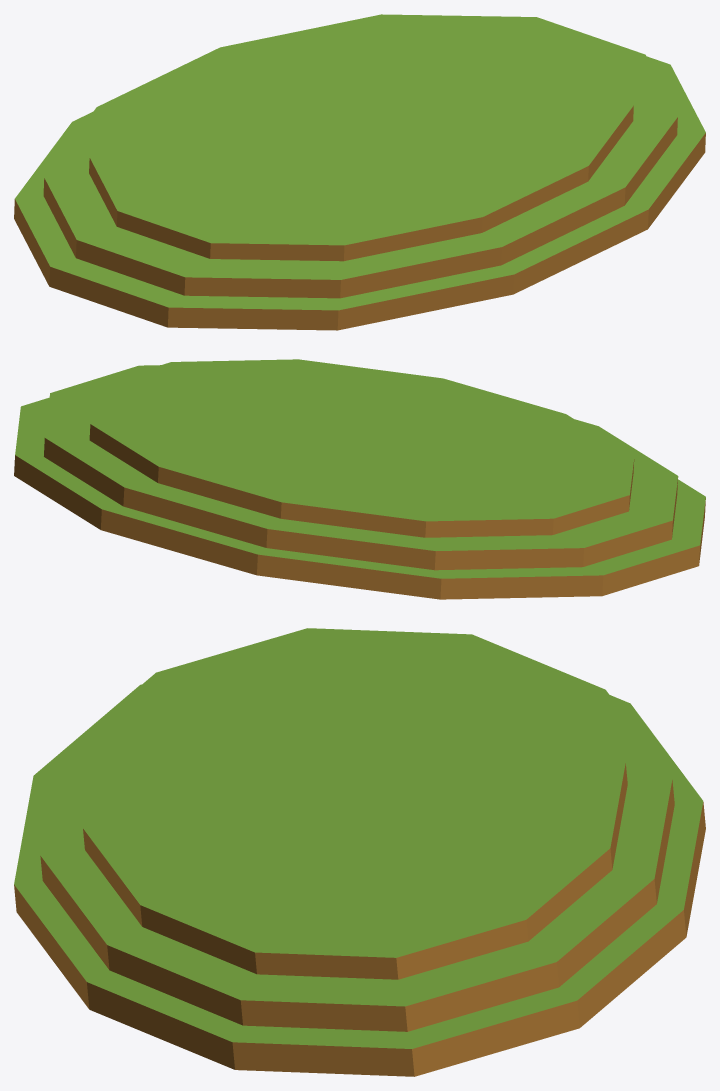
3 views of the same model, one above another, from view 1: azimuth 30°, elevation 25°; view 2: azimuth 150°, elevation 25°; view 3: azimuth 270°, elevation 25° (orthographic). The views are drawn at different scales.
Parts seen in each view (by area): view 1: node_MeshObject-158597248-PolyPaper19; view 2: node_MeshObject-158597248-PolyPaper19; view 3: node_MeshObject-158597248-PolyPaper19.
Part boxes in pixels (x1,y1,x2,y2): node_MeshObject-158597248-PolyPaper19: [14, 14, 705, 330]; node_MeshObject-158597248-PolyPaper19: [14, 359, 705, 599]; node_MeshObject-158597248-PolyPaper19: [14, 628, 705, 1076].
Bounding box in the file's own units: 0.6359 × 0.0846 × 0.4344.
